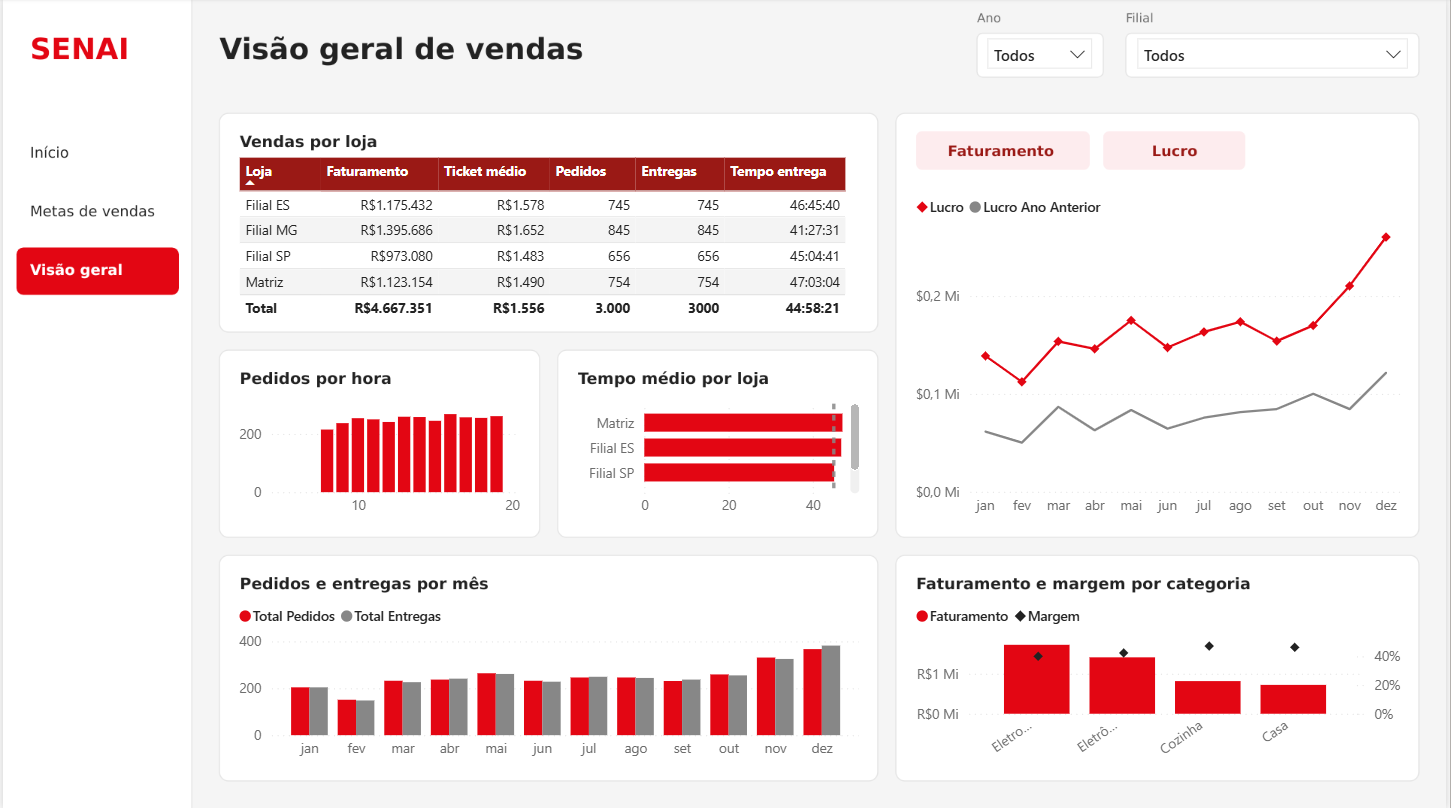

Layout of this report page (visuals, bound fields, positions):
{"tool":"powerbi","page":{"name":"Vendas","canvas":[1280,720],"ordinal":2},"visuals":[{"type":"slicer","fields":{"Values":["dCalendario.ano"]},"box":[864,34,112,37],"z":0},{"type":"slicer","fields":{"Values":["dLoja.nome_loja"]},"box":[996,34,260,37],"z":1000},{"type":"tableEx","fields":{"Values":["dLoja.nome_loja","Medidas.faturamento","Medidas.ticket_medio","Medidas.qtde_pedidos","Medidas.qtde_entregas","Medidas.tempo_entrega (hh:mm:ss)"]},"box":[204,146,560,140],"z":2000},{"type":"clusteredColumnChart","fields":{"Category":["fVendas.int_hr_venda"],"Y":["Medidas.qtde_pedidos"]},"box":[204,356,260,112],"z":3000},{"type":"clusteredColumnChart","fields":{"Category":["dCalendario.nome_mes"],"Y":["Medidas.qtde_pedidos","Medidas.qtde_entregas"]},"box":[204,538,560,146],"z":4000},{"type":"clusteredBarChart","fields":{"Category":["dLoja.nome_loja"],"Y":["Medidas.tempo_medio_entrega (hs)"]},"box":[504,356,260,112],"z":5000},{"type":"lineClusteredColumnComboChart","fields":{"Category":["dProdutos.Categoria"],"Y":["Medidas.faturamento"],"Y2":["Medidas.margem_lucro"]},"box":[804,538,440,146],"z":6000},{"type":"lineChart","fields":{"Category":["dCalendario.nome_mes"],"Y":["Medidas.Lucro","Medidas.LucroLY"]},"box":[804,166,440,302],"z":8000},{"type":"shape","box":[810,120,154,34],"z":9000},{"type":"shape","box":[976,120,126,34],"z":10000},{"type":"actionButton","box":[12,119,144,42],"z":11000},{"type":"actionButton","box":[12,171,144,42],"z":20000},{"type":"actionButton","box":[12,223,144,42],"z":20000},{"type":"shape","box":[976,120,126,34],"z":25000}]}

Visuals, with their boxes on the page's 1280x720 design canvas (x1, y1, x2, y2). These are canvas units, not pixel positions in the 1451x808 screenshot, which may show the page scaled, cropped or inside an application window:
slicer - dCalendario.ano: (x1=864, y1=34, x2=976, y2=71)
slicer - dLoja.nome_loja: (x1=996, y1=34, x2=1256, y2=71)
tableEx - dLoja.nome_loja x Medidas.faturamento: (x1=204, y1=146, x2=764, y2=286)
clusteredColumnChart - fVendas.int_hr_venda x Medidas.qtde_pedidos: (x1=204, y1=356, x2=464, y2=468)
clusteredColumnChart - dCalendario.nome_mes x Medidas.qtde_pedidos: (x1=204, y1=538, x2=764, y2=684)
clusteredBarChart - dLoja.nome_loja x Medidas.tempo_medio_entrega (hs): (x1=504, y1=356, x2=764, y2=468)
lineClusteredColumnComboChart - dProdutos.Categoria x Medidas.faturamento: (x1=804, y1=538, x2=1244, y2=684)
lineChart - dCalendario.nome_mes x Medidas.Lucro: (x1=804, y1=166, x2=1244, y2=468)
shape: (x1=810, y1=120, x2=964, y2=154)
shape: (x1=976, y1=120, x2=1102, y2=154)
actionButton: (x1=12, y1=119, x2=156, y2=161)
actionButton: (x1=12, y1=171, x2=156, y2=213)
actionButton: (x1=12, y1=223, x2=156, y2=265)
shape: (x1=976, y1=120, x2=1102, y2=154)
